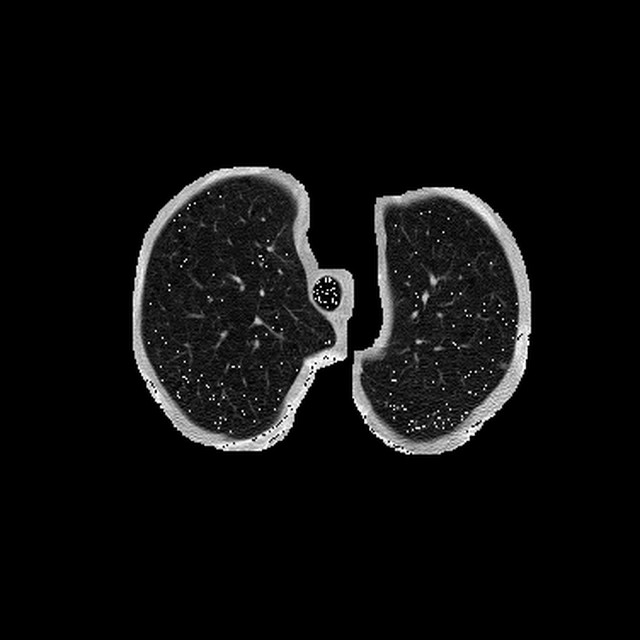PN: (500, 363, 507, 369)
